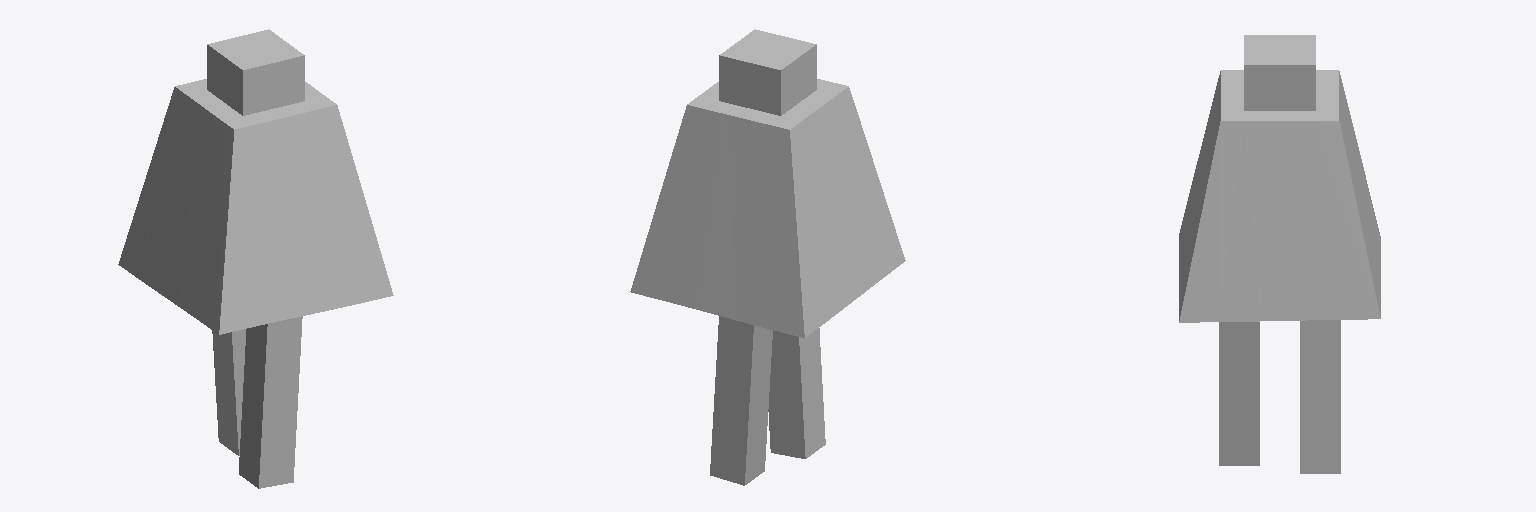
The model's file is essai_000045.obj.
The picture shows the model from 3 angles: view 1: azimuth 30°, elevation 25°; view 2: azimuth 150°, elevation 25°; view 3: azimuth 270°, elevation 25°; orthographic projection.
Visible parts, largest first — view 1: Cube; view 2: Cube; view 3: Cube.
Part boxes in pixels (x1,y1,x2,y2): Cube: (118,29,393,488); Cube: (630,29,905,485); Cube: (1179,35,1380,473).
Size of the model in its own units: 2 by 4.51 by 2.